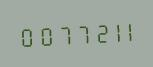one: (102, 18, 118, 44), (119, 17, 135, 43)
seven: (51, 21, 67, 47), (68, 20, 84, 46)
two: (85, 19, 101, 45)
zero: (17, 23, 33, 49), (34, 22, 50, 48)
